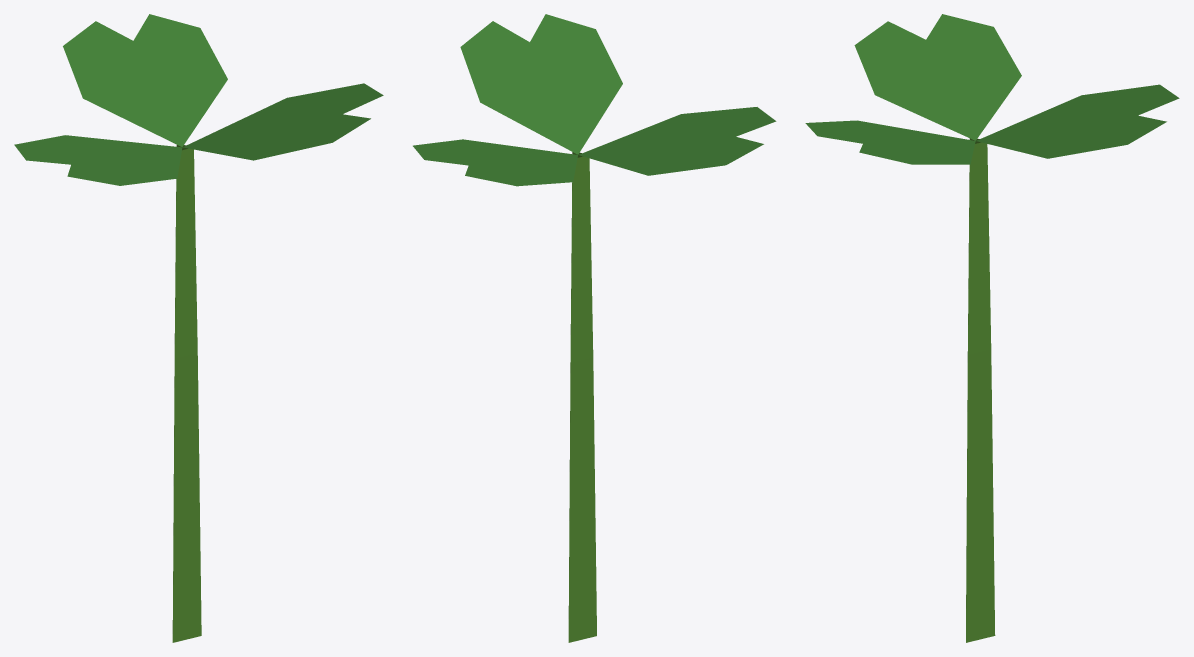
Rendered from clover.fbx.
3 renders of one model, left to right at view 1: azimuth 30°, elevation 25°; view 2: azimuth 150°, elevation 25°; view 3: azimuth 270°, elevation 25°, orthographic. The views are drawn at different scales.
Parts seen in each view (by area): view 1: clover; view 2: clover; view 3: clover.
Part boxes in pixels (bbox=[...]): clover: bbox=[14, 14, 383, 642]; clover: bbox=[413, 14, 776, 642]; clover: bbox=[805, 14, 1179, 642].
Bounding box in the file's own units: 24.25 × 39.22 × 24.01.
